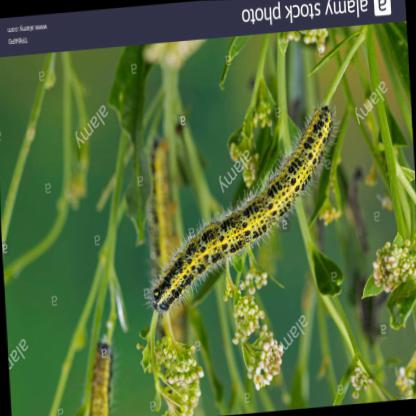pieris: (140, 104, 336, 318)
